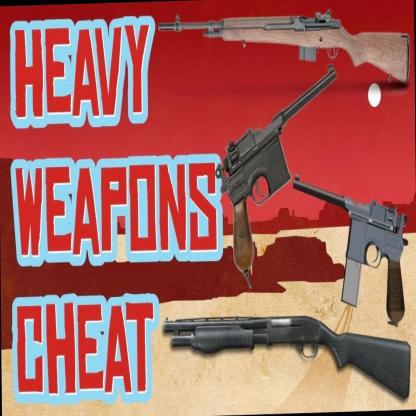rifle: (164, 302, 412, 410), (156, 2, 410, 95)
